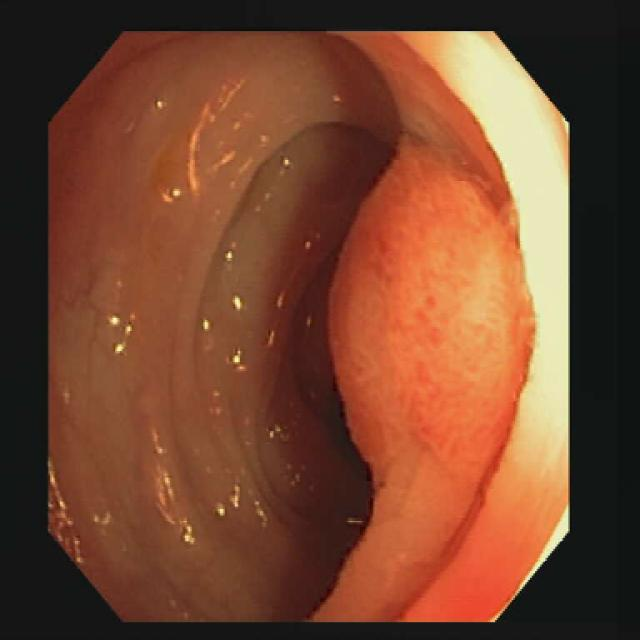tumor: (330, 136, 533, 482)
